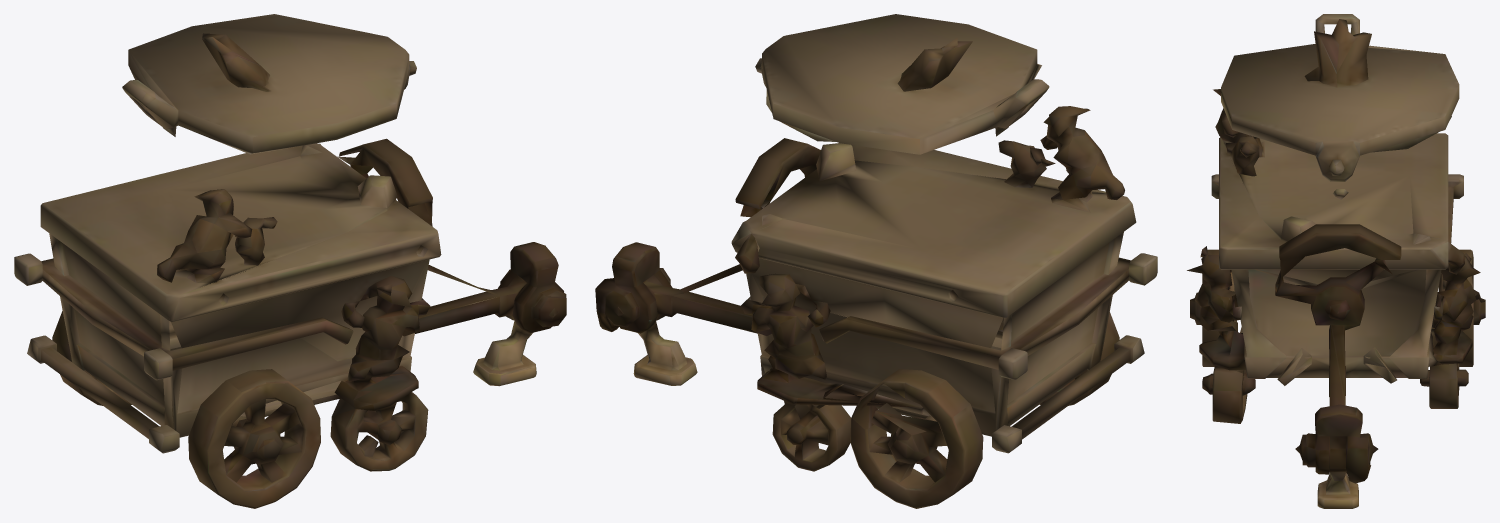
Rendered from ladle_crew.glb.
The picture shows the model from 3 angles, left to right: view 1: azimuth 30°, elevation 25°; view 2: azimuth 150°, elevation 25°; view 3: azimuth 270°, elevation 25°; orthographic projection. The views are drawn at different scales.
Parts seen in each view (by area): view 1: base_model_path; view 2: base_model_path; view 3: base_model_path.
Part boxes in pixels (x1=…): base_model_path: x1=14, y1=14, x2=566, y2=508; base_model_path: x1=595, y1=14, x2=1157, y2=508; base_model_path: x1=1187, y1=14, x2=1485, y2=508.
Bounding box in the file's own units: 1 × 0.822 × 0.6243.
1 material, 1 textured.
